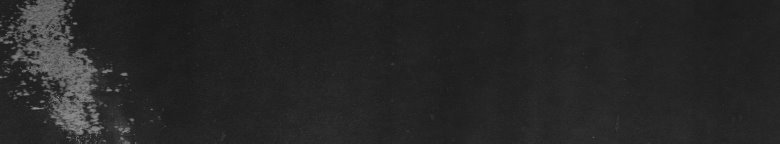kb: (4, 4, 84, 136)
